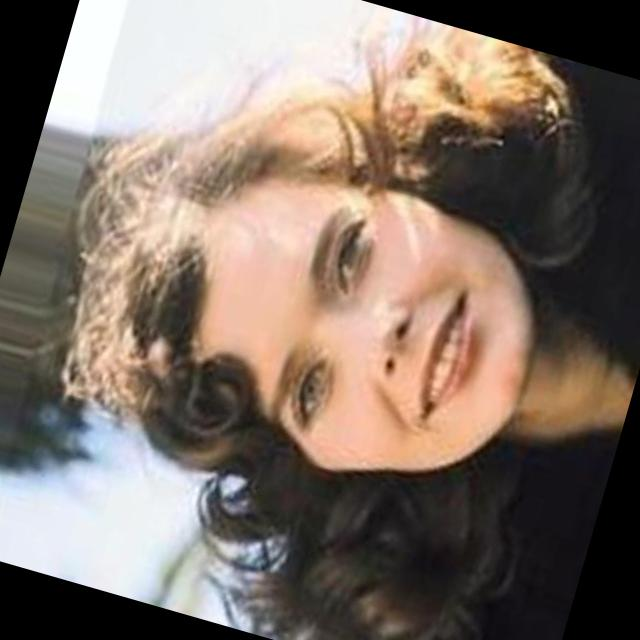bareface: (55, 59, 562, 566)
